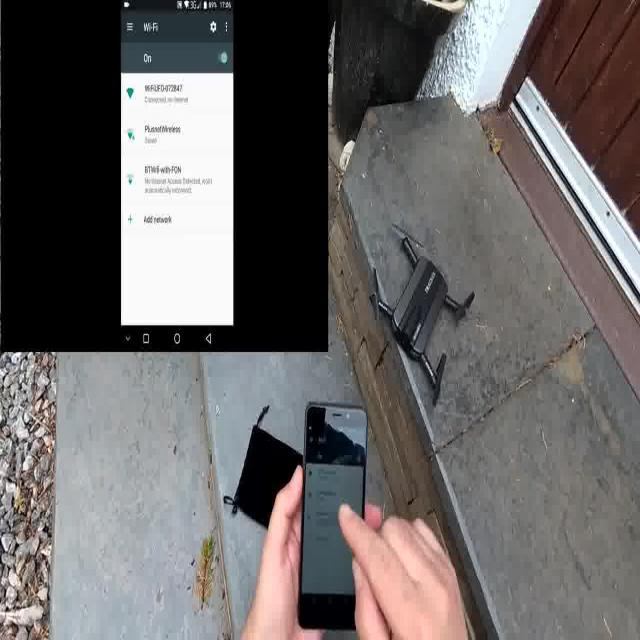drone: (368, 220, 475, 409)
